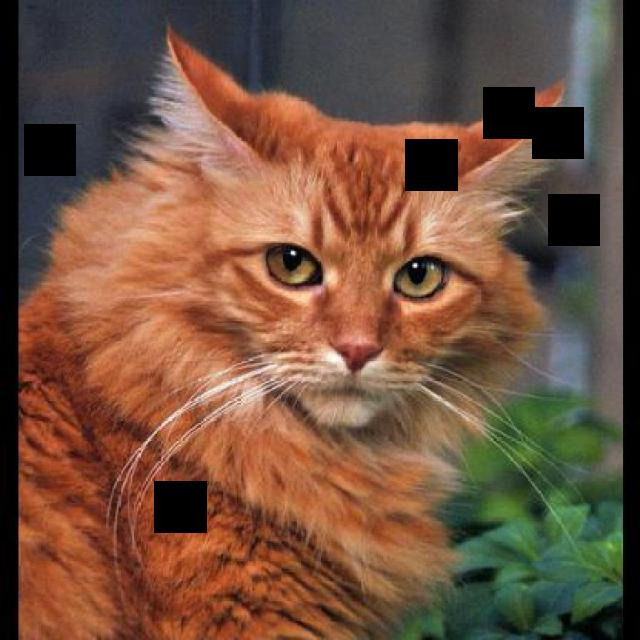unauthorized: (17, 21, 581, 638)
